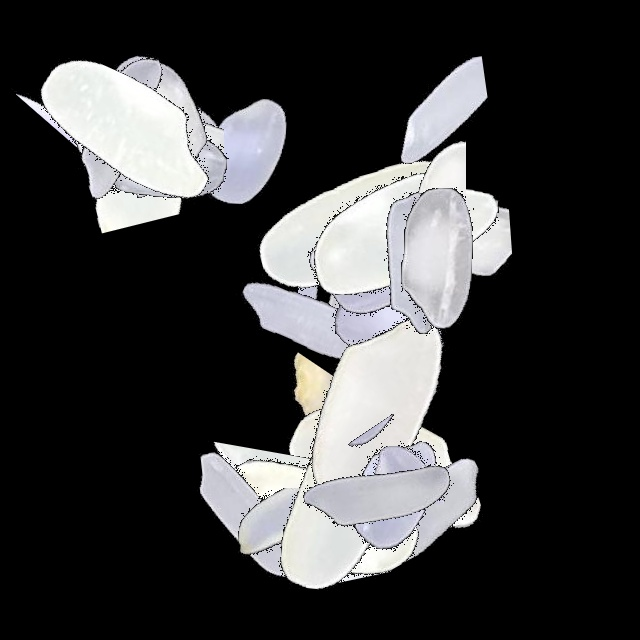Broken: (299, 155, 549, 327), (54, 13, 221, 263), (283, 32, 533, 194), (260, 350, 421, 600), (285, 390, 443, 640), (77, 442, 327, 595), (261, 342, 409, 592), (78, 16, 224, 266), (187, 488, 437, 624), (196, 390, 325, 640), (338, 92, 466, 342), (343, 315, 471, 565), (201, 459, 451, 583), (0, 48, 250, 170), (295, 236, 409, 486), (0, 73, 250, 180), (298, 155, 402, 405), (289, 195, 539, 290), (288, 410, 538, 505), (47, 0, 132, 250), (278, 253, 528, 338), (300, 140, 383, 390), (411, 106, 487, 356)
Full: (254, 155, 504, 405), (34, 0, 284, 250), (257, 347, 507, 597), (301, 390, 551, 640), (234, 98, 484, 348), (0, 0, 250, 250), (226, 390, 476, 640), (118, 24, 368, 274), (199, 386, 449, 636), (0, 18, 250, 268), (179, 196, 429, 446), (264, 202, 514, 452), (11, 1, 261, 251), (253, 146, 503, 396), (256, 140, 506, 390), (28, 32, 278, 282), (215, 367, 465, 617), (250, 284, 500, 534), (279, 110, 529, 360), (287, 138, 537, 388), (36, 0, 286, 250), (267, 367, 517, 617), (2, 0, 252, 250), (310, 134, 560, 384), (252, 372, 502, 622)
